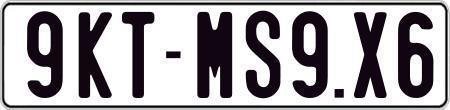6: (395, 11, 433, 99)
9: (291, 9, 333, 100), (26, 11, 62, 102)
K: (78, 11, 117, 103)
M: (197, 11, 233, 101)
S: (246, 11, 285, 99)
T: (122, 10, 157, 96)
X: (351, 9, 387, 100)
